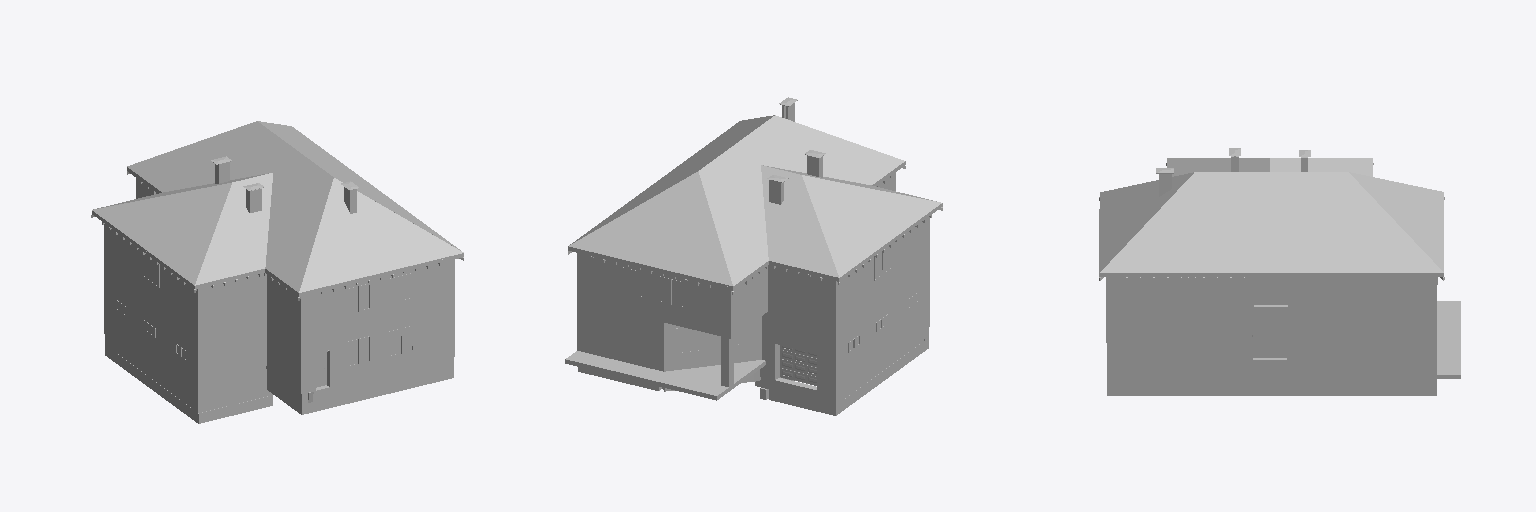
File: residential_concrete_1.obj
3 renders of one model, left to right at view 1: azimuth 30°, elevation 25°; view 2: azimuth 150°, elevation 25°; view 3: azimuth 270°, elevation 25°, orthographic.
Visible parts, largest first — view 1: дом_.004; view 2: дом_.004; view 3: дом_.004.
Boxes of the visible parts, <box> form: дом_.004: <box>91,121,463,423</box>; дом_.004: <box>565,97,942,415</box>; дом_.004: <box>1099,148,1460,395</box>.
Bounding box in the file's own units: 0.7054 × 0.5896 × 0.9337.